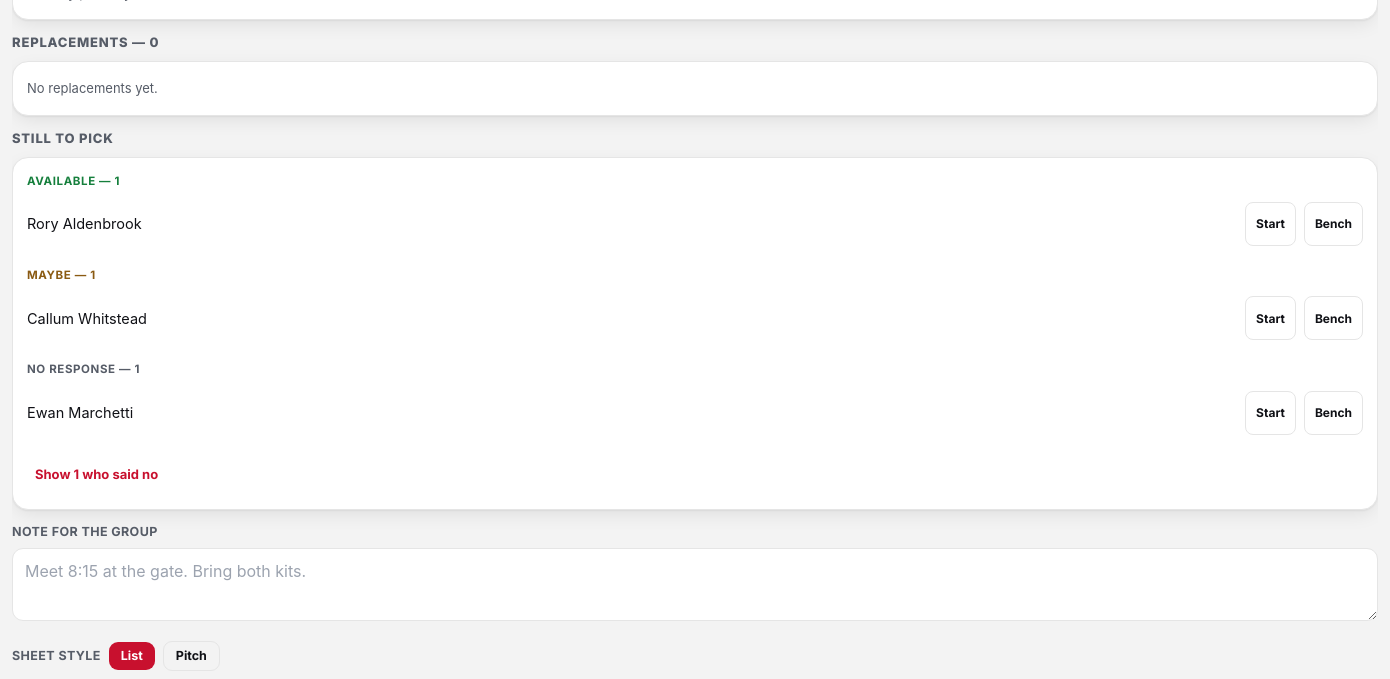
the squad pool › collapses players who said no behind a button, rather than hiding them
(page scrolled)
Expected: the text "Available — 1" is shown, 27,174 -> 120,188
Expected: the text "Tomas Bergqvist" is not shown
Step 1. Click the button "Show 1 who said no" → (97, 475), box 27,453 -> 166,497
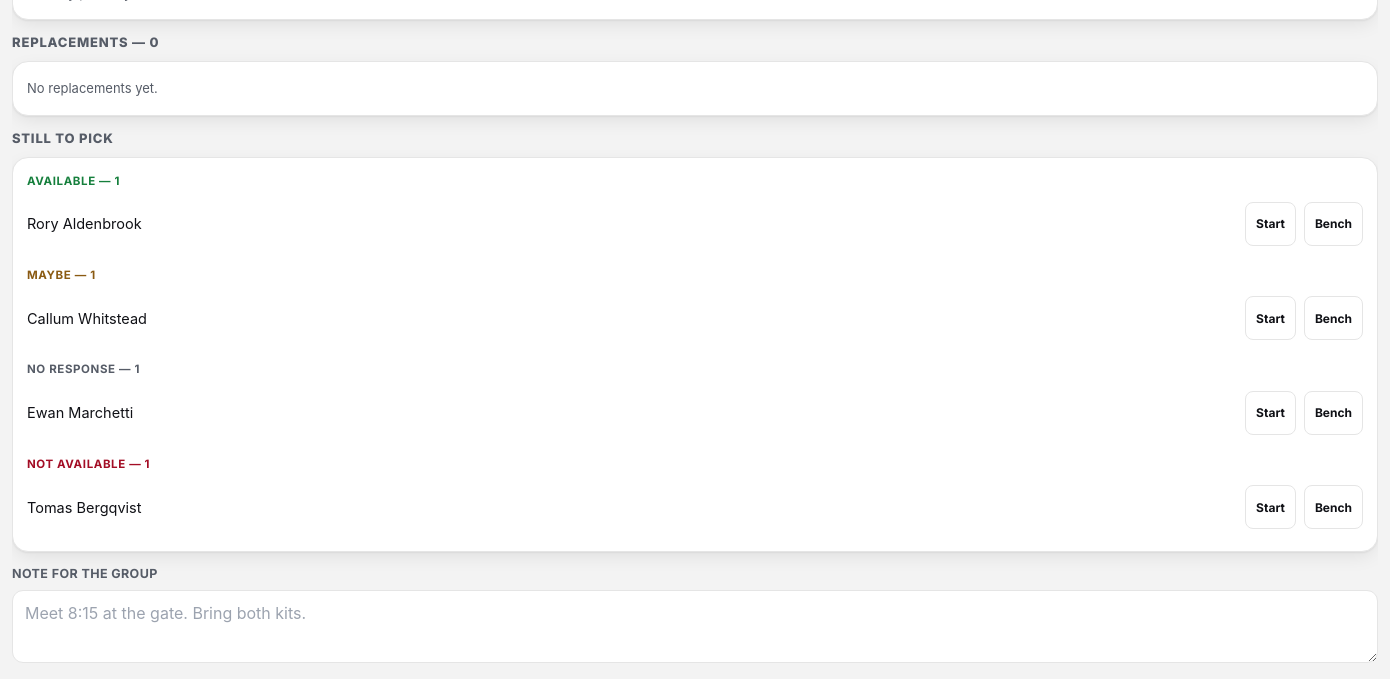
Result: the text "Tomas Bergqvist" is shown at 27,499 -> 142,516
